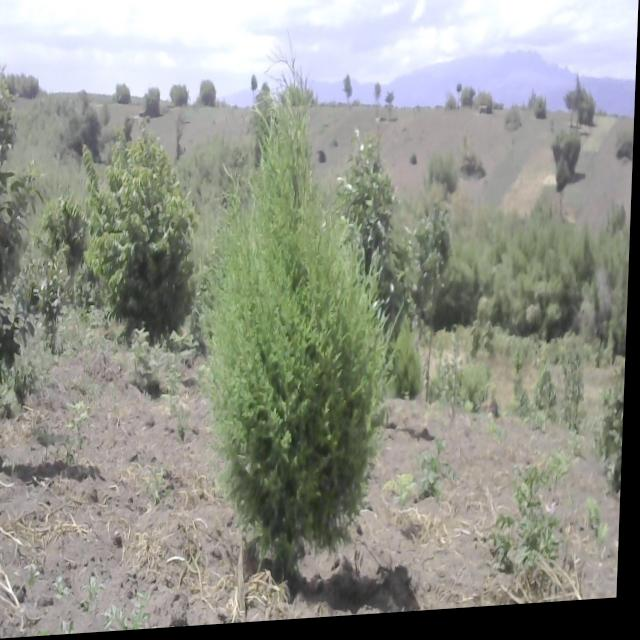Hass Avocado: (0, 65, 67, 373)
Lemon Myrtle: (78, 126, 204, 340)
cedrus: (197, 50, 394, 623), (548, 120, 594, 209), (338, 64, 363, 123), (244, 67, 270, 111)
